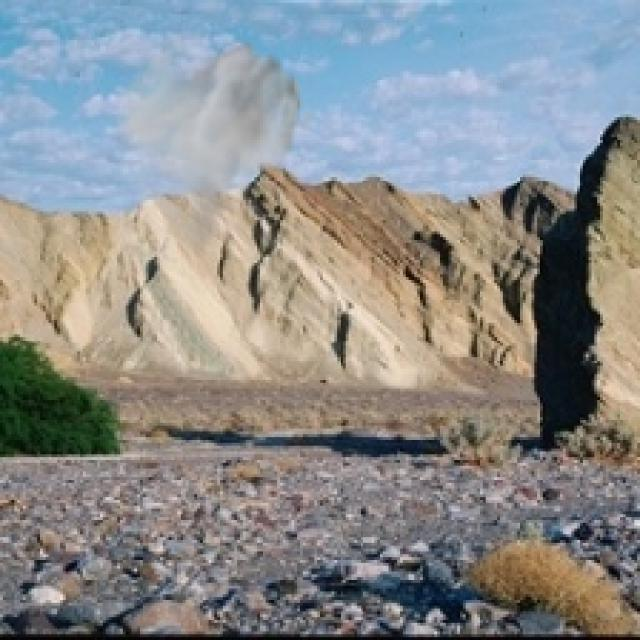smoke: (109, 20, 320, 263)
